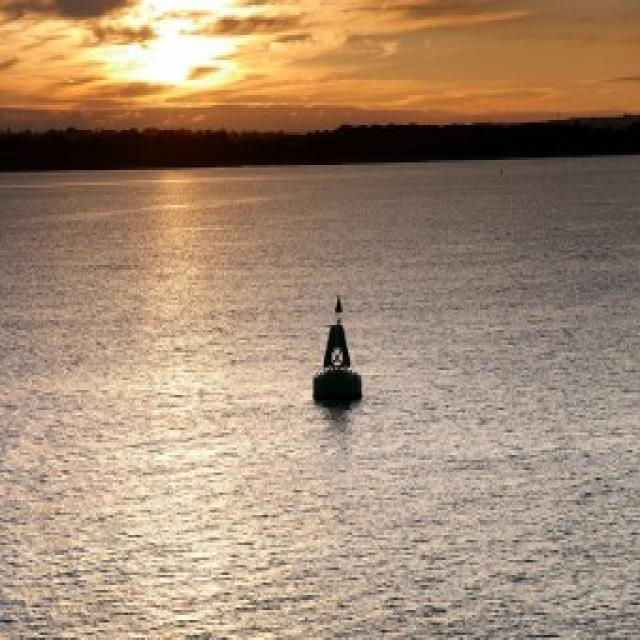buoy: (306, 284, 377, 418)
